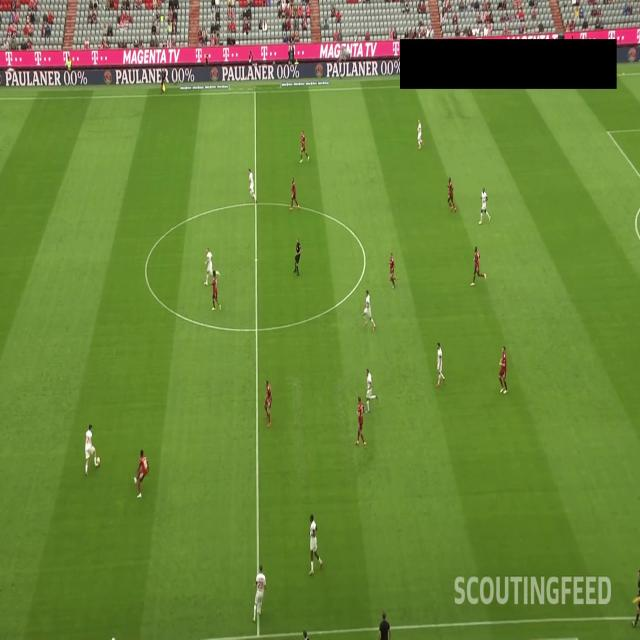ball: (95, 454, 102, 466)
player: (306, 510, 324, 574), (132, 445, 151, 502), (467, 239, 489, 288), (82, 420, 100, 477), (200, 244, 222, 287), (250, 558, 265, 620), (354, 392, 368, 448), (495, 342, 509, 396), (364, 366, 379, 414), (208, 269, 222, 314), (263, 373, 274, 430), (434, 340, 446, 389), (479, 183, 492, 228), (364, 287, 376, 333), (297, 129, 312, 165), (287, 174, 301, 212), (386, 246, 398, 290), (446, 173, 458, 214), (247, 165, 259, 202), (415, 113, 425, 150)
referee: (290, 234, 304, 278), (159, 58, 169, 96)
